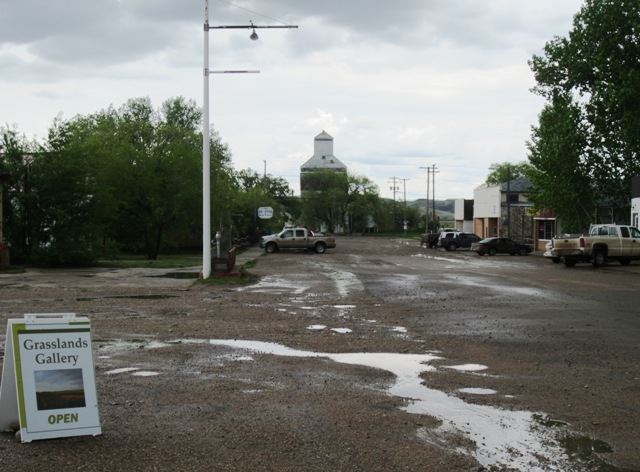building: (302, 129, 352, 203)
sky: (1, 1, 560, 153)
water: (454, 400, 607, 472), (174, 331, 316, 360), (329, 348, 448, 380), (385, 378, 466, 425)
